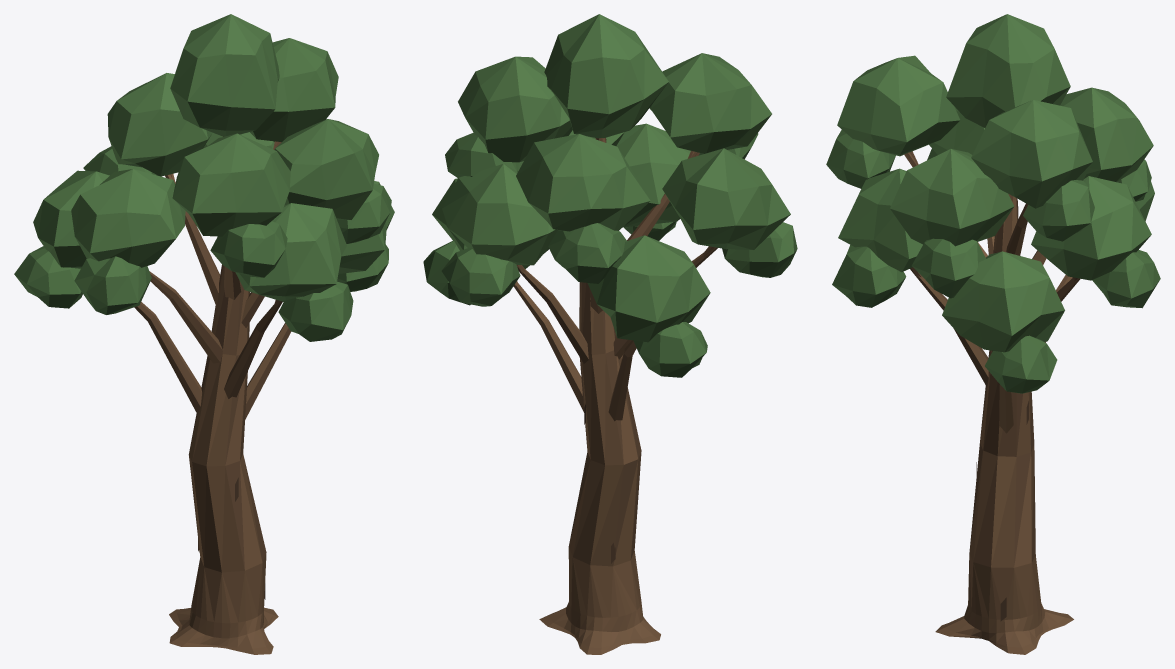
File: oak_young.glb
The picture shows the model from 3 angles, left to right: view 1: azimuth 30°, elevation 25°; view 2: azimuth 150°, elevation 25°; view 3: azimuth 270°, elevation 25°; orthographic projection.
Visible parts, largest first — view 1: leaves, branches; view 2: leaves, branches; view 3: leaves, branches.
Part boxes in pixels (x1=…): leaves: x1=14, y1=14, x2=394, y2=341; branches: x1=134, y1=136, x2=291, y2=654; leaves: x1=423, y1=14, x2=797, y2=377; branches: x1=513, y1=137, x2=717, y2=654; leaves: x1=826, y1=14, x2=1160, y2=393; branches: x1=904, y1=151, x2=1080, y2=654.
Size of the model in its own units: 1.15 by 2 by 0.9847.
